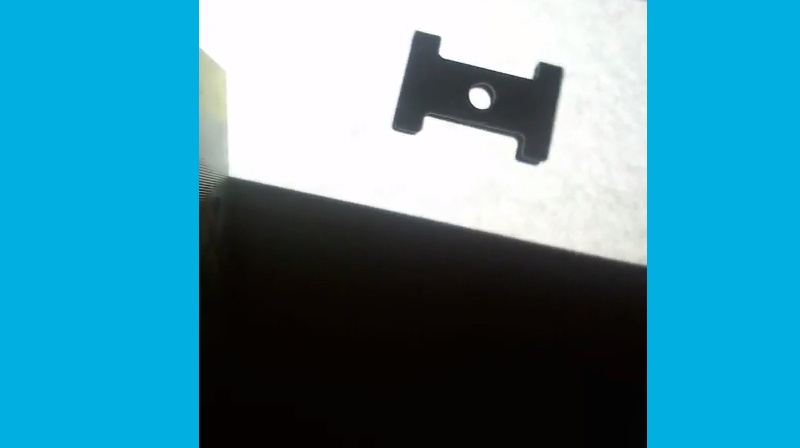O002: (387, 26, 564, 167)
